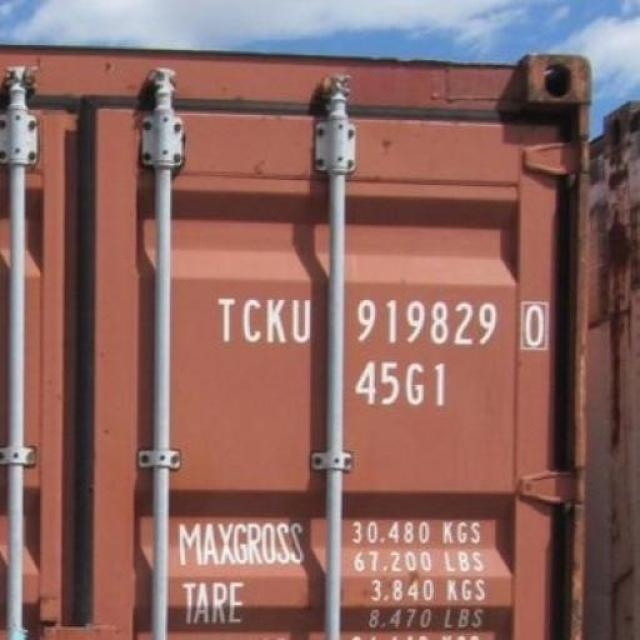ISO: (352, 354, 452, 406)
container_number: (208, 285, 552, 352)
